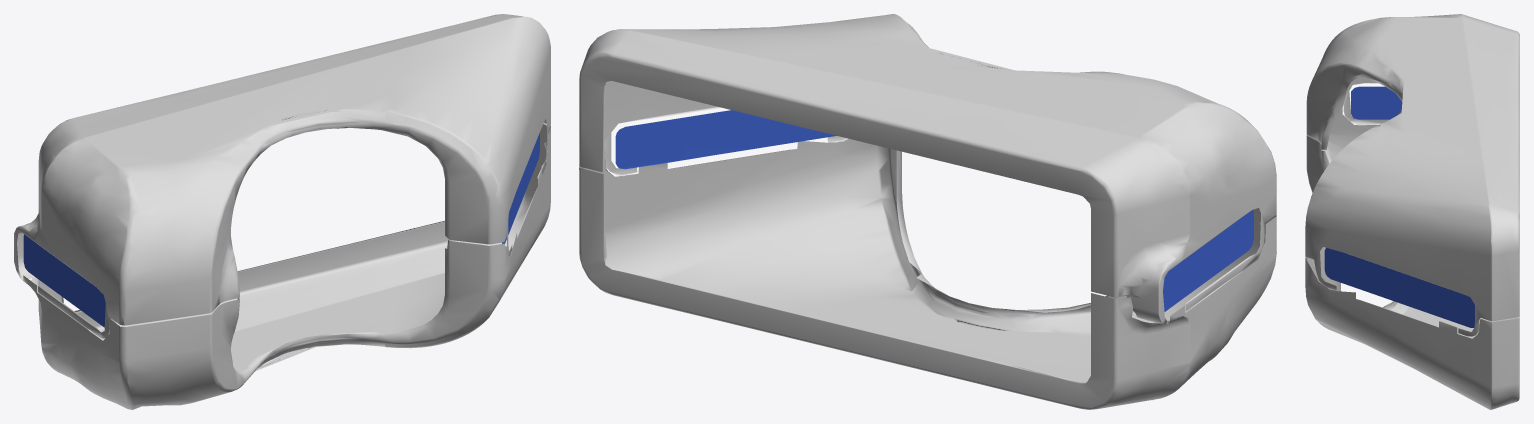
Rendered from sim_ecub_1-1_r_ankle_2.obj.
The picture shows the model from 3 angles, left to right: view 1: azimuth 30°, elevation 25°; view 2: azimuth 150°, elevation 25°; view 3: azimuth 270°, elevation 25°; orthographic projection. The views are drawn at different scales.
Bounding box in the file's own units: 259 × 111 × 106.
